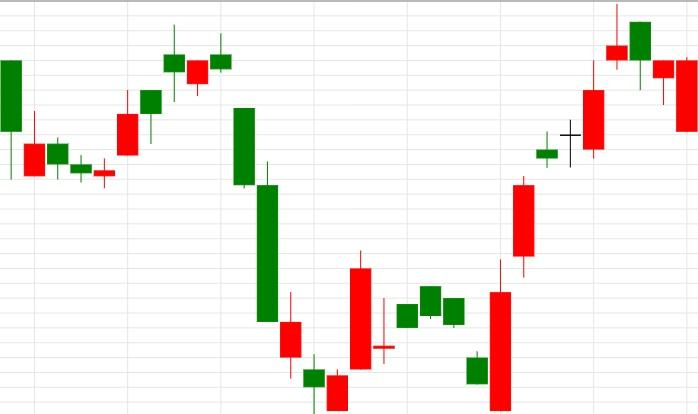bullish_engulfing_rise: (419, 258, 512, 411)
shooting_star_fall: (489, 4, 629, 412)
three_black_crows_fall: (93, 23, 279, 322)
